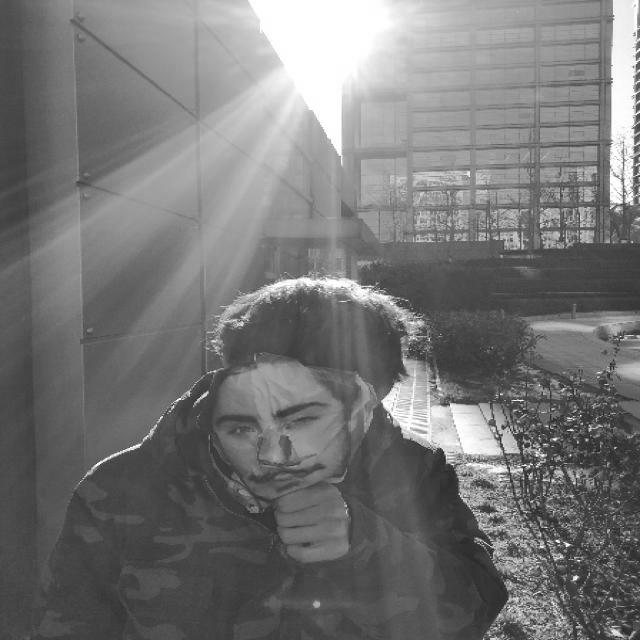fake: (182, 272, 442, 505)
